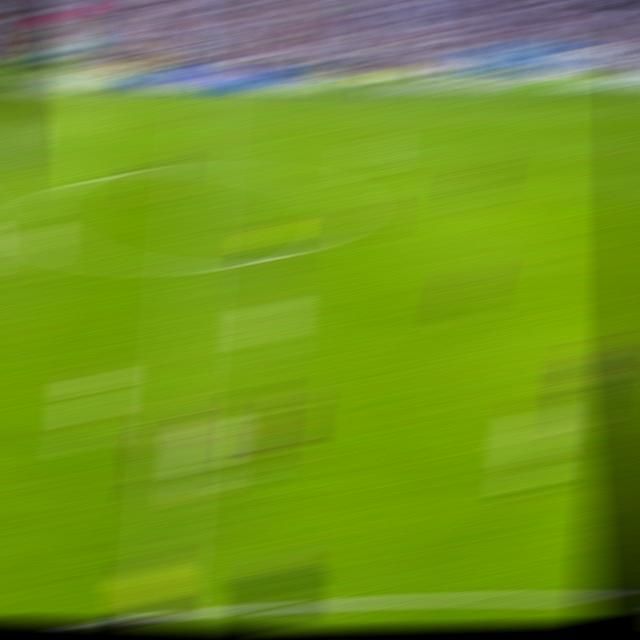halfcircle_bottom: (171, 254, 209, 277)
halfcircle_top: (179, 157, 218, 179)
midline_bottom_intersection: (142, 601, 180, 624)
midline_top_intersection: (189, 92, 220, 100)
